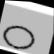no answer: (0, 20, 37, 54)
